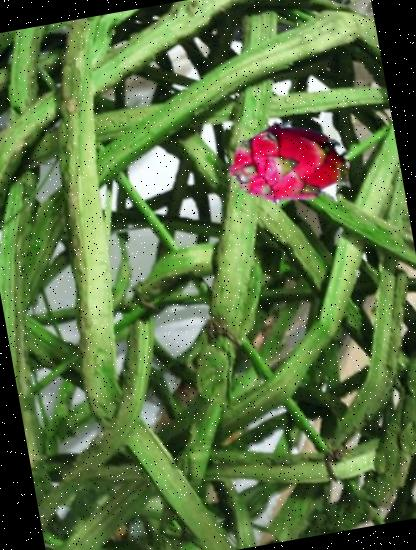Pitahaya: (218, 91, 359, 232)
